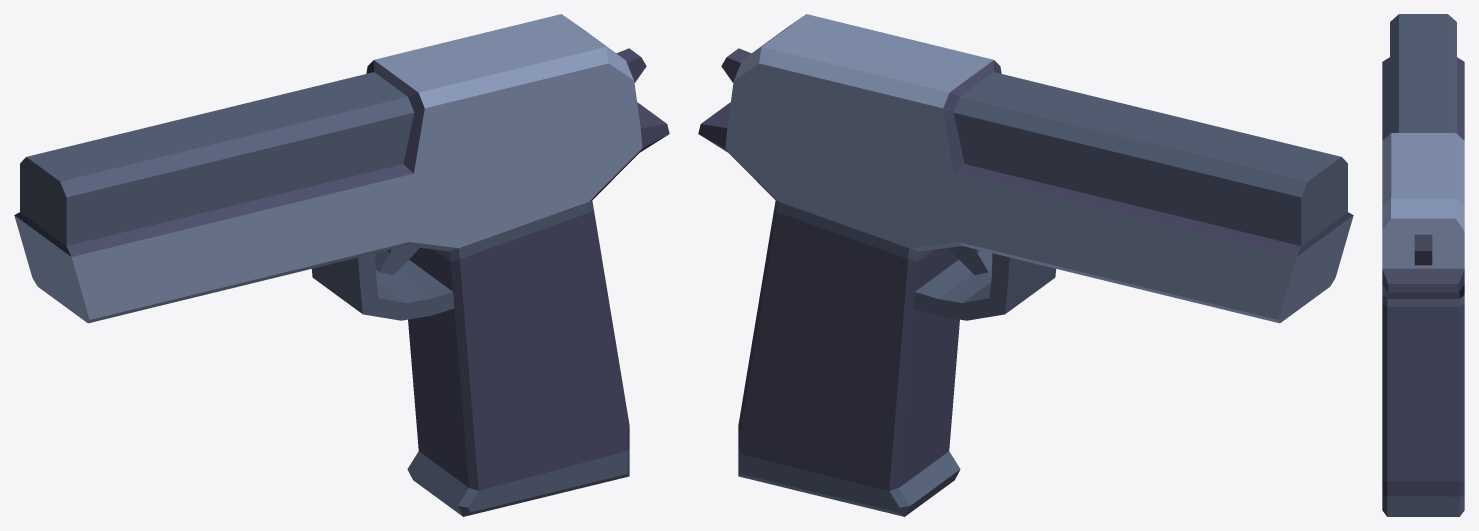
Rendered from Pistol.fbx.
3 renders of one model, left to right at view 1: azimuth 30°, elevation 25°; view 2: azimuth 150°, elevation 25°; view 3: azimuth 270°, elevation 25°, orthographic. The views are drawn at different scales.
Parts seen in each view (by area): view 1: Pistol_Gun_01a; view 2: Pistol_Gun_01a; view 3: Pistol_Gun_01a.
Part boxes in pixels (box(x1,y1,x2,y2)): Pistol_Gun_01a: box(14, 14, 669, 516); Pistol_Gun_01a: box(698, 14, 1353, 516); Pistol_Gun_01a: box(1382, 14, 1464, 516).
Size of the model in its own units: 70.84 by 48.62 by 11.68.
